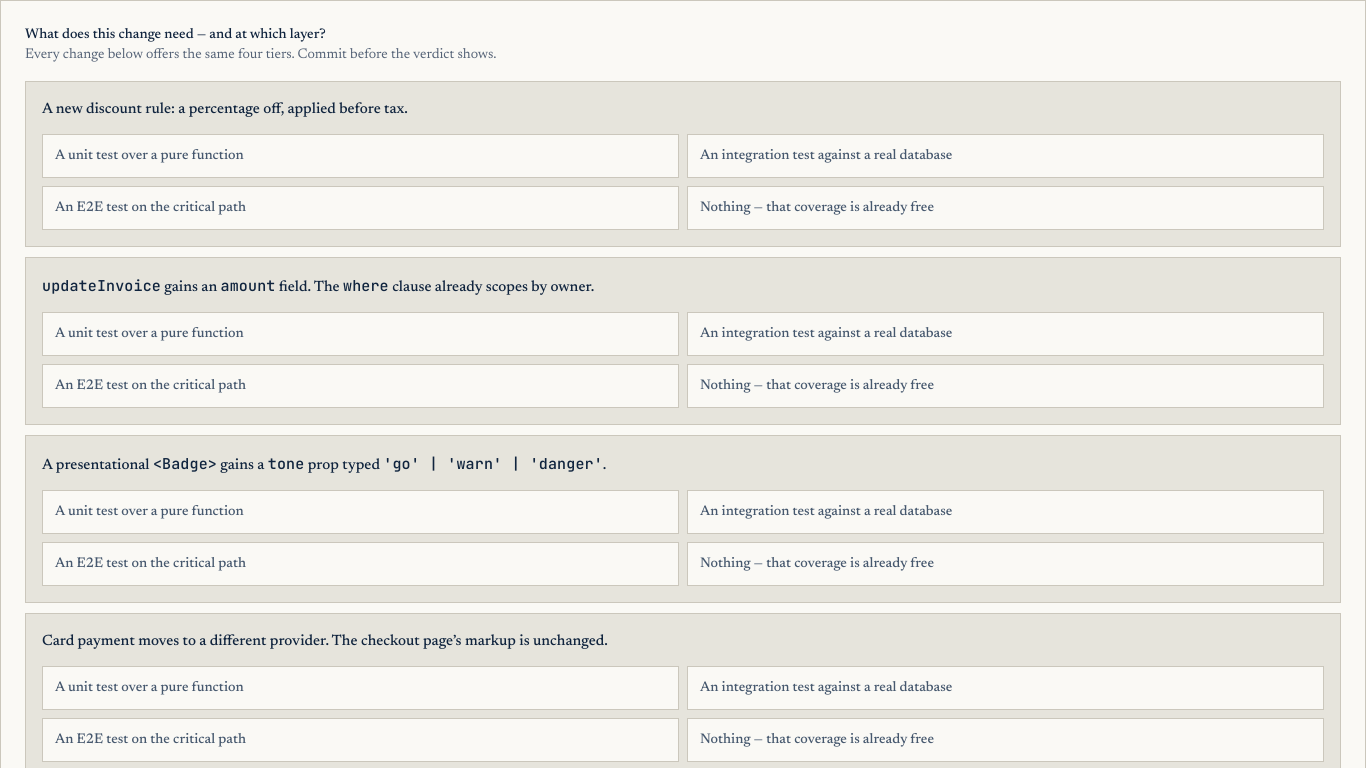
reset clears every answer and the score with it
Click the 1st radio button labelled "A unit test over a pure function".
click(149, 156)  # box [42,134,679,178]
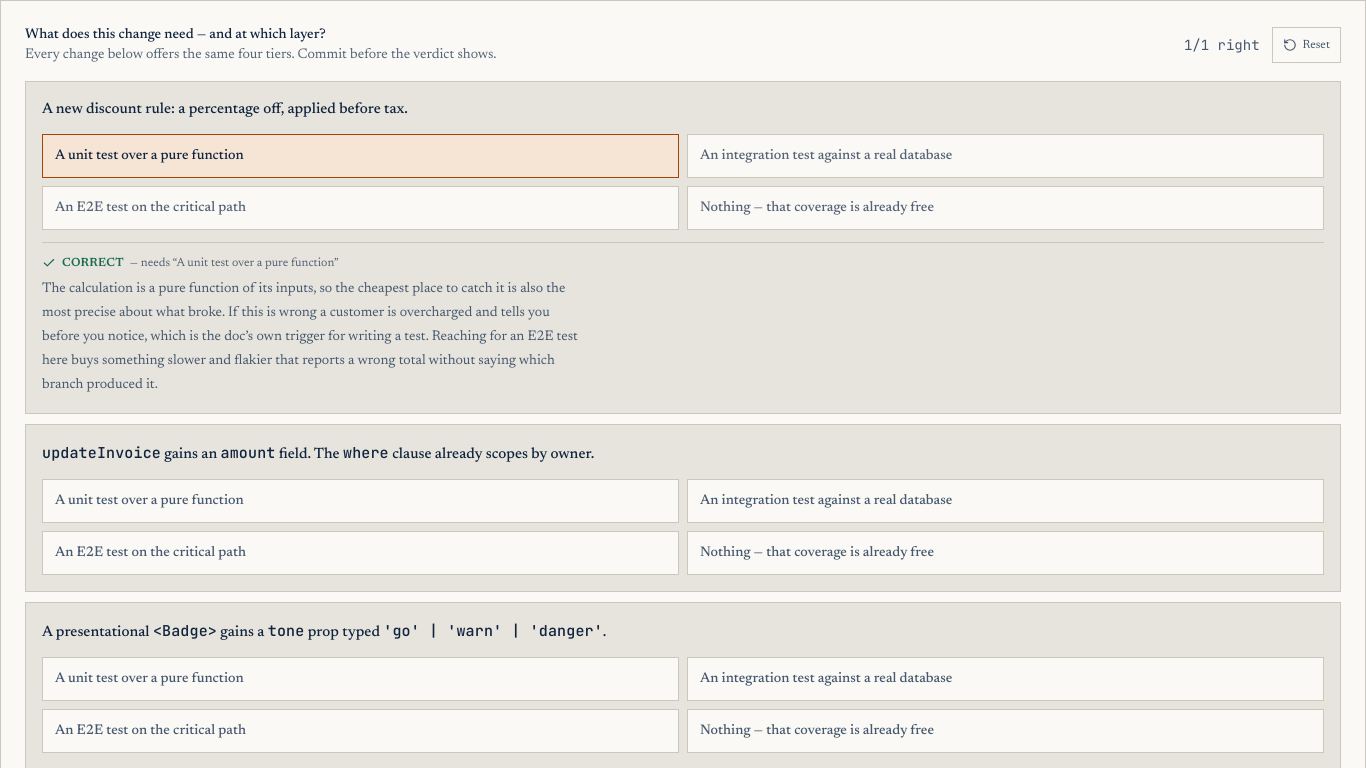
Click the button "Reset".
click(1306, 45)  # box [1272,27,1341,63]
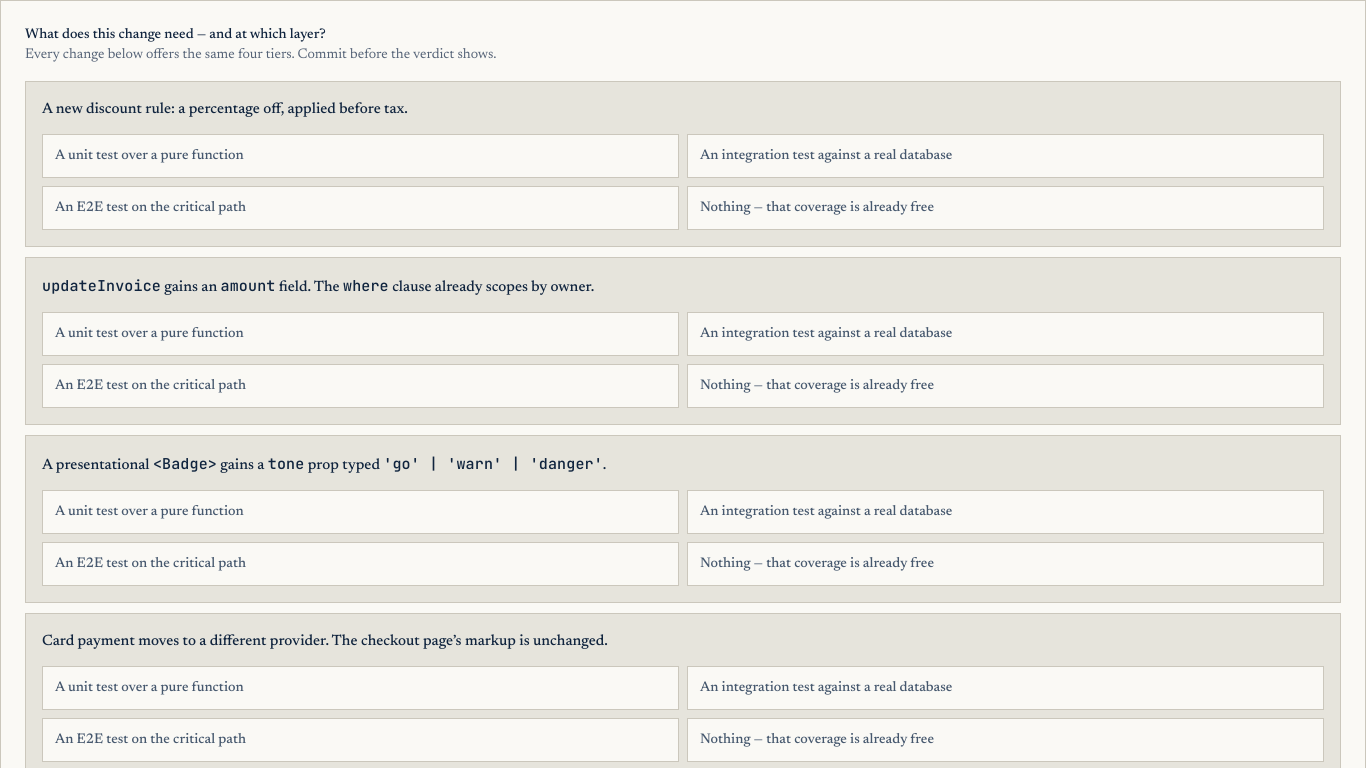
Result: the text "right" is gone
